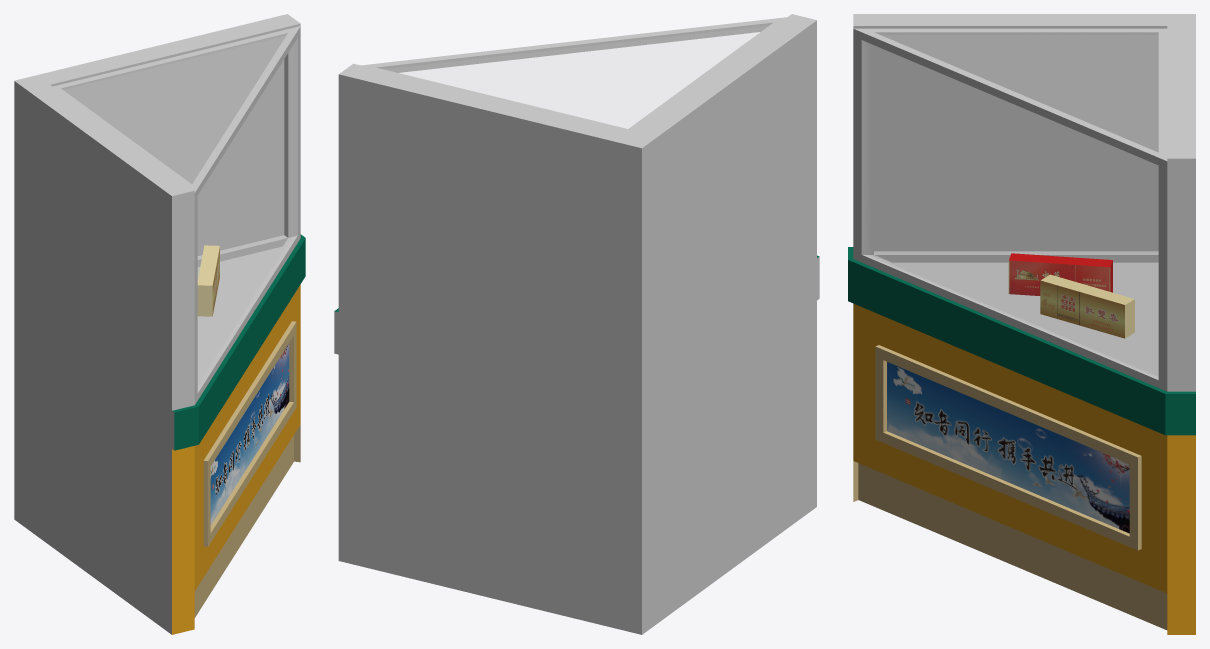
The model's file is cashier_counter_c.glb.
3 views of the same model, side by side, from view 1: azimuth 30°, elevation 25°; view 2: azimuth 150°, elevation 25°; view 3: azimuth 270°, elevation 25° (orthographic). The views are drawn at different scales.
Visible parts, largest first — view 1: 收银台C; view 2: 收银台C; view 3: 收银台C.
Part boxes in pixels (x1,y1,x2,y2): 收银台C: (14, 14, 305, 634); 收银台C: (334, 14, 819, 634); 收银台C: (848, 14, 1195, 634).
Bounding box in the file's own units: 0.609 × 0.92 × 0.609.
Materials: 10 (6 with a texture image).
